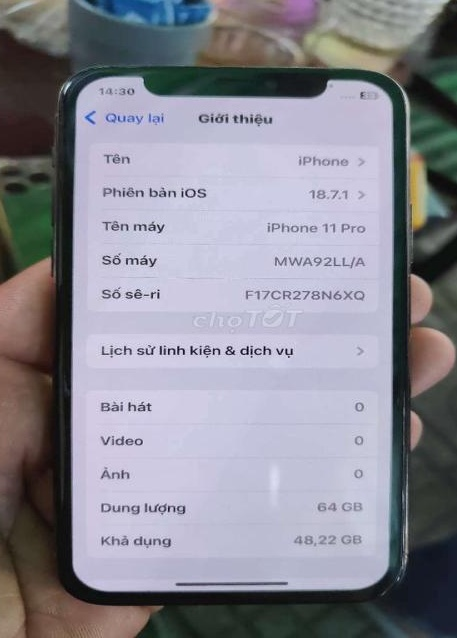scratch: (73, 57, 411, 75), (376, 472, 412, 601)
